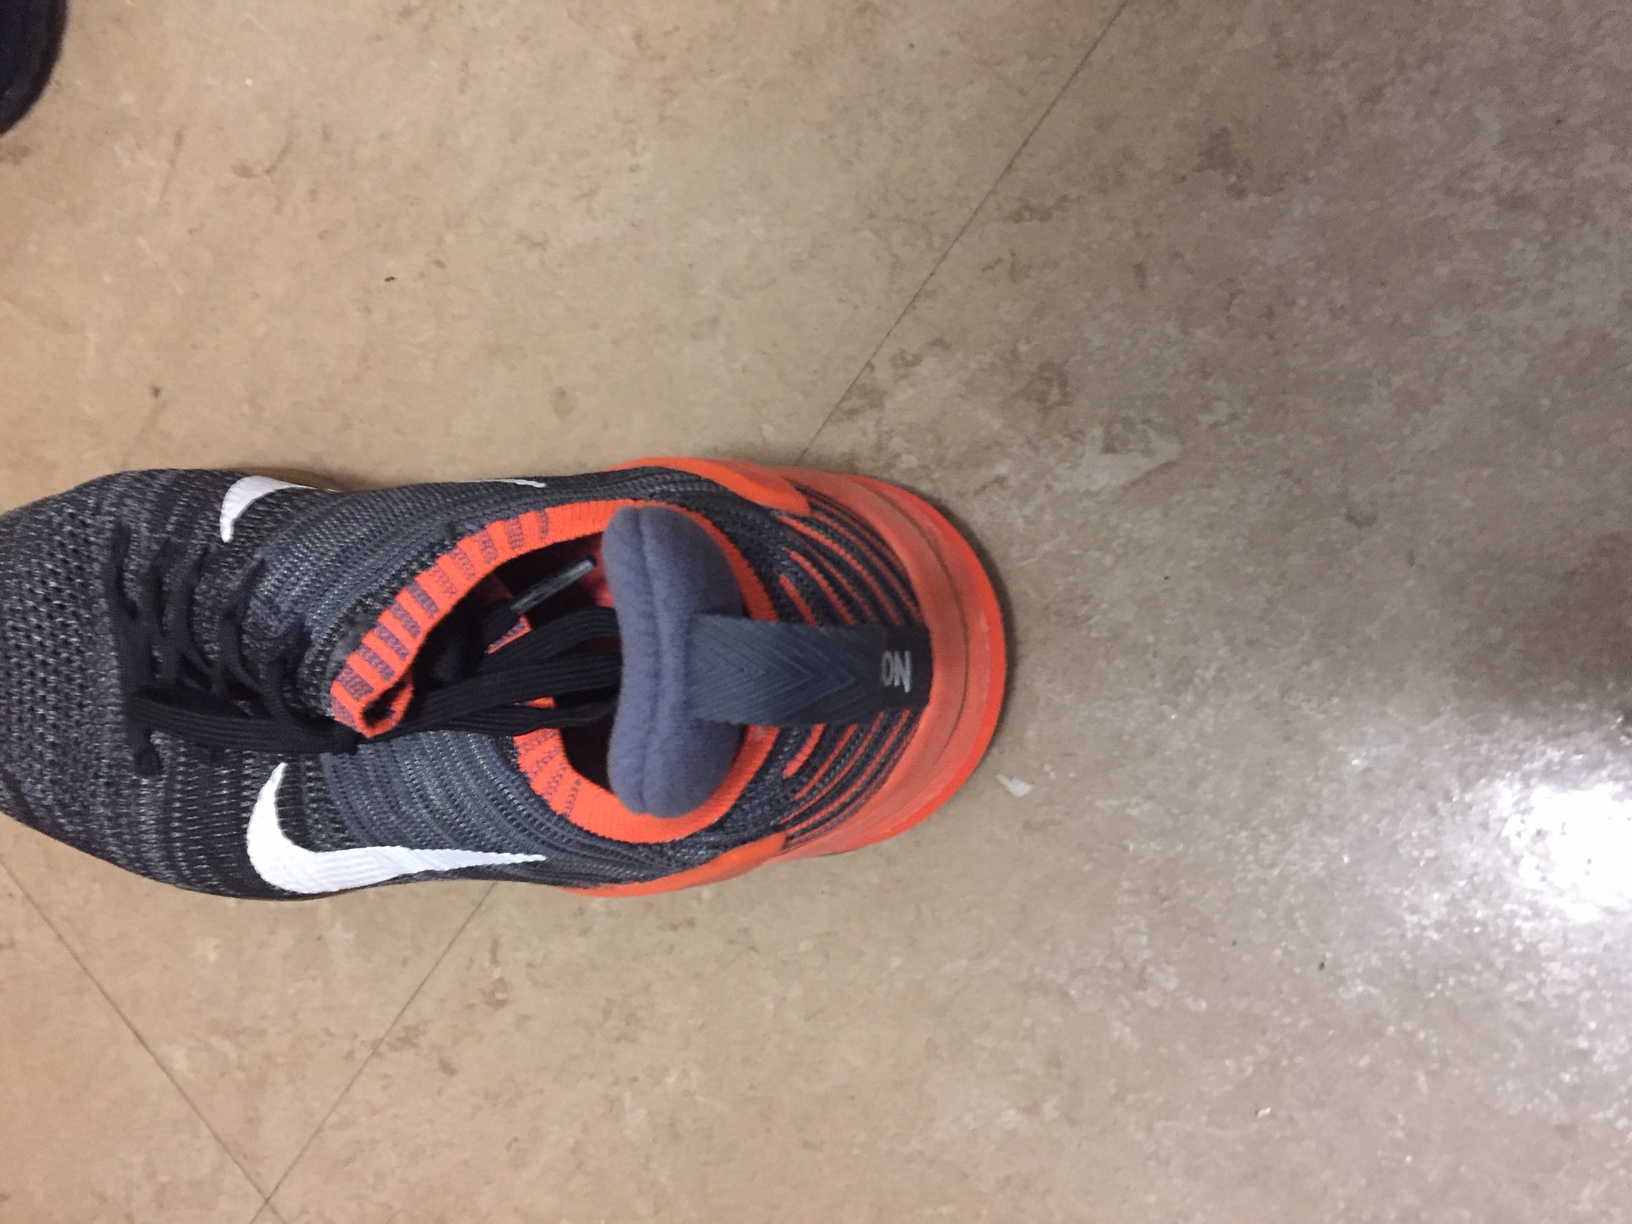car: (1, 449, 1018, 912)
